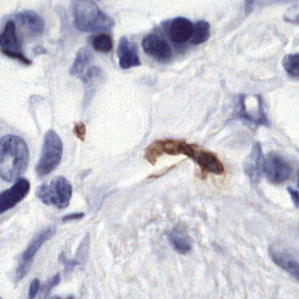Lymphocyte: (142, 137, 230, 176)
